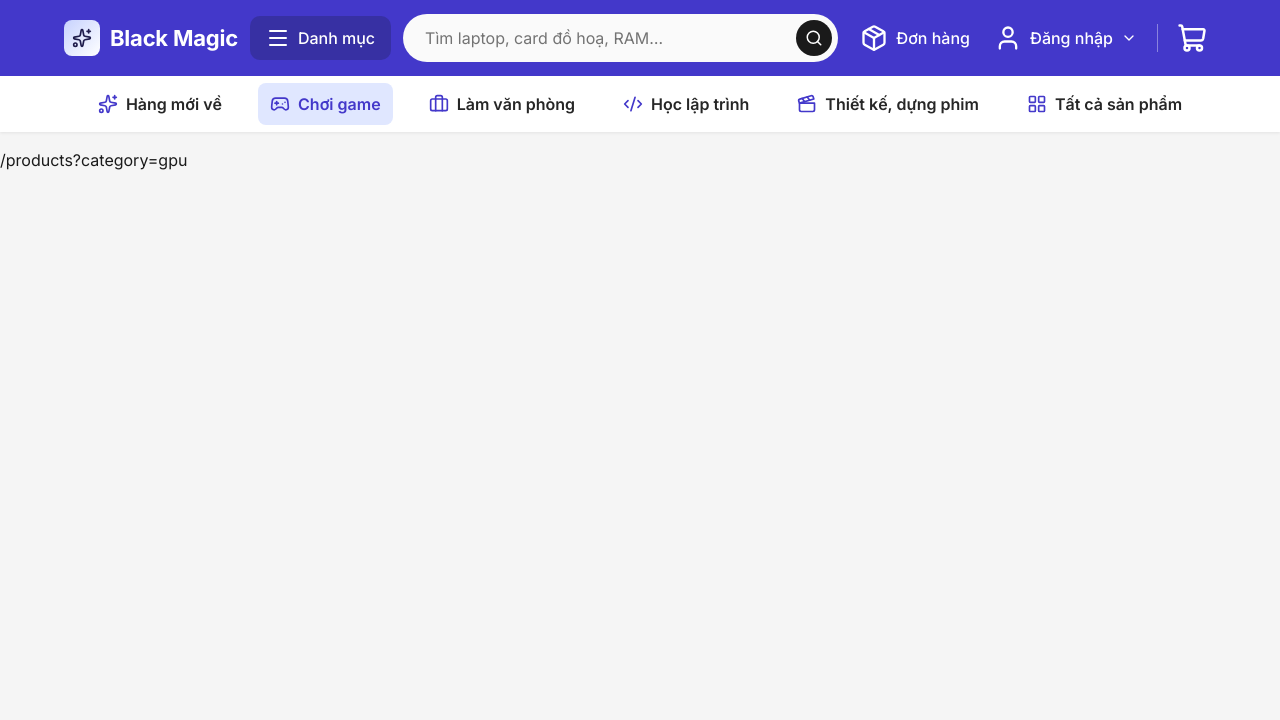
Scenario: Header › máy tính: nút Danh mục mở bảng 13 loại hàng, đánh dấu loại đang xem, Esc đóng
Click the button "Danh mục" at (320, 38), box [250,16,391,60]
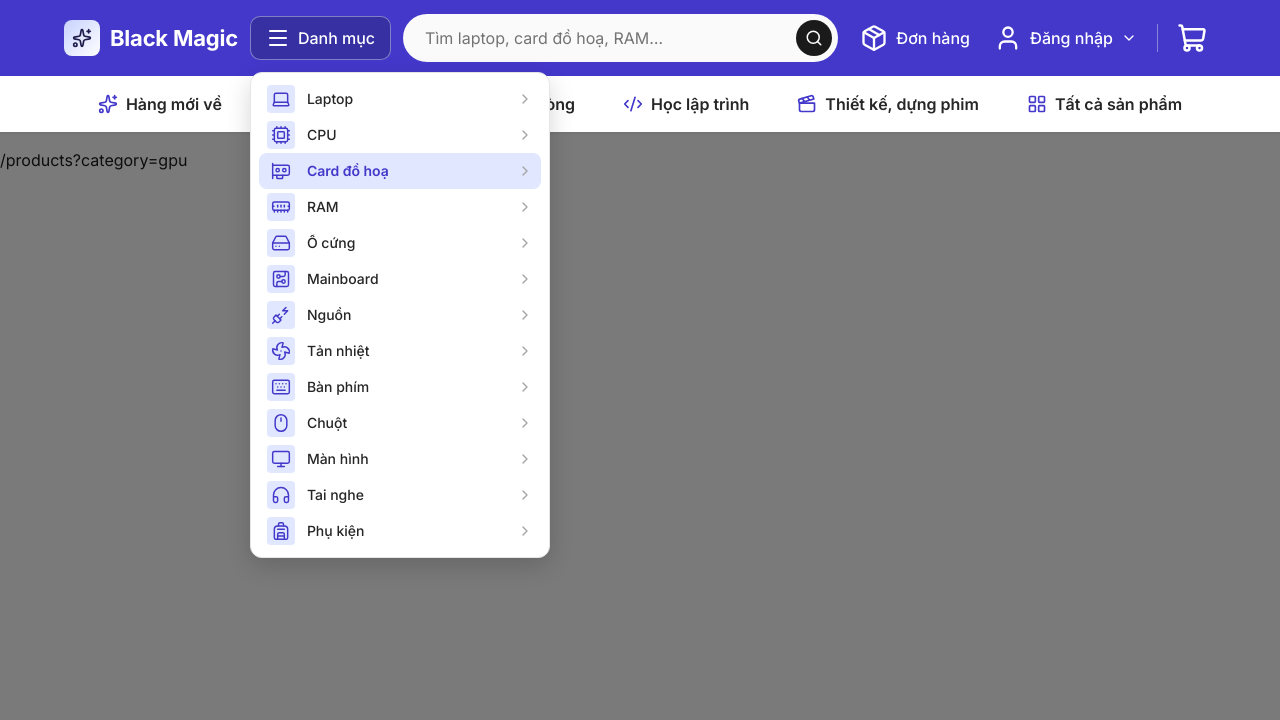
Press Escape
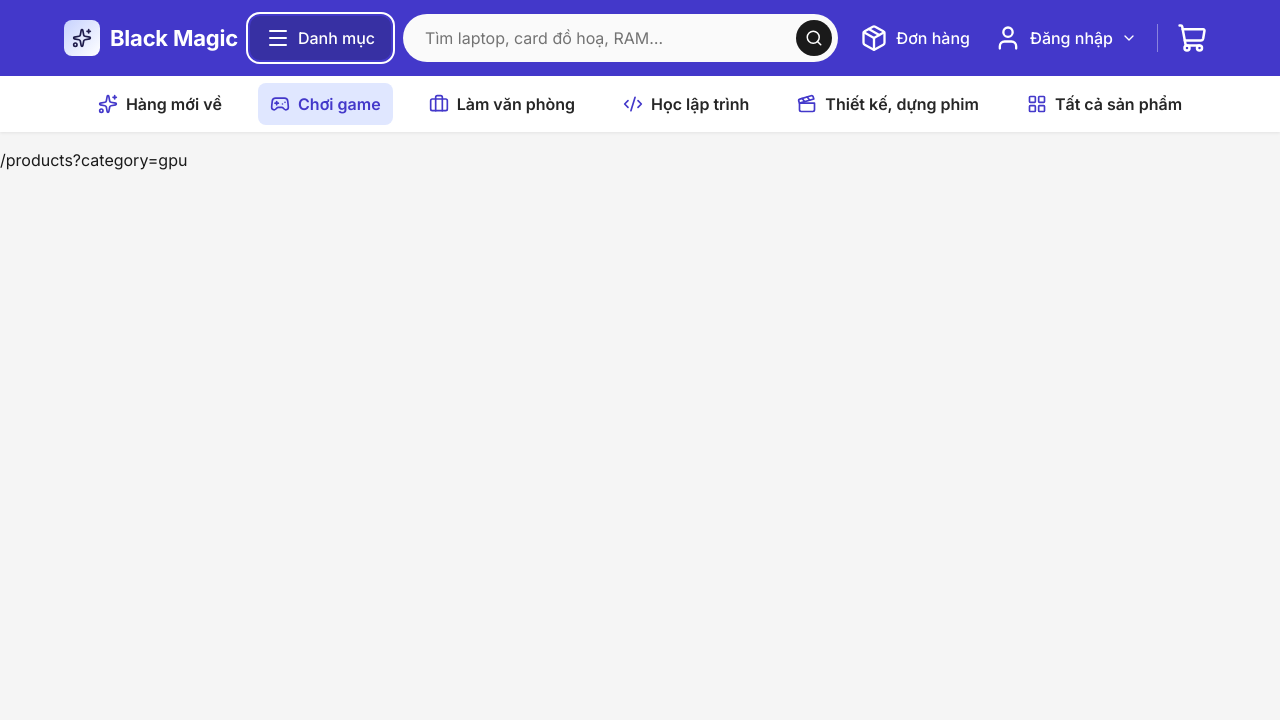
expect the dialog is gone: met
